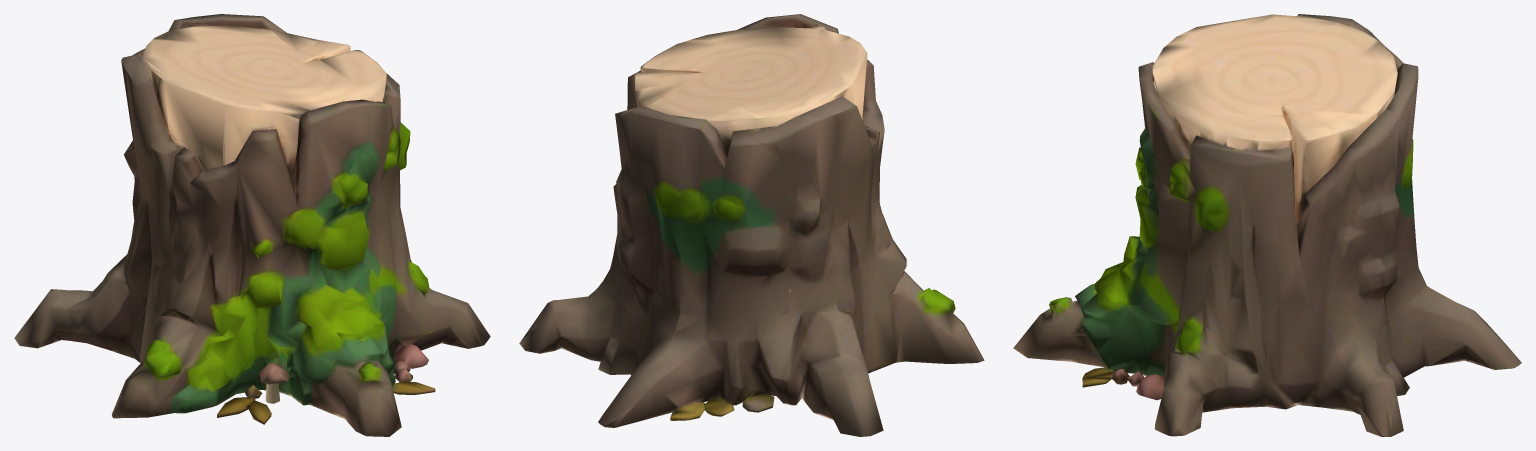
File: stump-a.glb
The picture shows the model from 3 angles, left to right: view 1: azimuth 30°, elevation 25°; view 2: azimuth 150°, elevation 25°; view 3: azimuth 270°, elevation 25°; orthographic projection.
Parts seen in each view (by area): view 1: node_0; view 2: node_0; view 3: node_0.
Part boxes in pixels (<box>): node_0: <box>14,14,490,436</box>; node_0: <box>519,14,984,436</box>; node_0: <box>1013,14,1521,436</box>.
Bounding box in the file's own units: 0.8107 × 0.5991 × 0.9618.
Materials: 1 (1 with a texture image).
